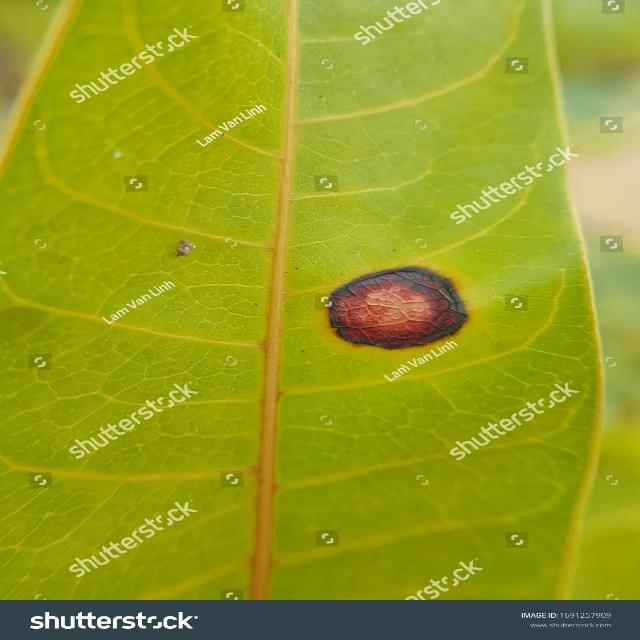leaf_spot: (53, 2, 605, 587)
